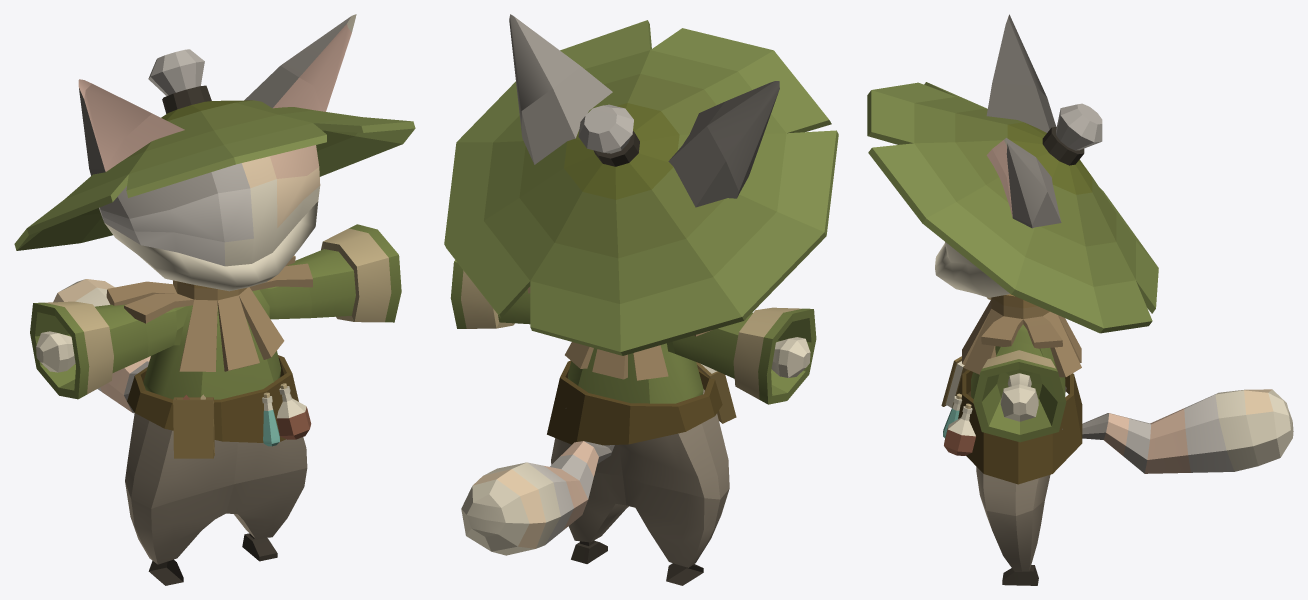
Rendered from GRASSMODELUPDATED.fbx.
3 views of the same model, side by side, from view 1: azimuth 30°, elevation 25°; view 2: azimuth 150°, elevation 25°; view 3: azimuth 270°, elevation 25° (orthographic). The views are drawn at different scales.
Visible parts, largest first — view 1: HEAD, TORSO_ARMS, HAT, PANTS, NECKPIECE, BELT, pCube11, TAIL, pSphere3, pSphere4, pCube5, pCube6; view 2: HAT, TORSO_ARMS, HEAD, PANTS, TAIL, BELT, NECKPIECE, pCube11, pCube5, pCube6; view 3: HAT, TAIL, HEAD, TORSO_ARMS, BELT, NECKPIECE, PANTS, pSphere3, pCube11, pCube5.
Part boxes in pixels (x1,y1,x2,y2): HEAD: (78, 14, 356, 291); TORSO_ARMS: (30, 224, 401, 399); HAT: (14, 49, 415, 250); PANTS: (125, 413, 307, 564); NECKPIECE: (106, 255, 312, 371); BELT: (127, 355, 298, 442); pCube11: (173, 397, 214, 458); TAIL: (53, 279, 150, 413); pSphere3: (276, 383, 311, 439); pSphere4: (262, 392, 279, 446); pCube5: (242, 533, 277, 561); pCube6: (148, 559, 183, 585); HAT: (444, 20, 838, 355); TORSO_ARMS: (450, 260, 816, 404); HEAD: (509, 14, 779, 207); PANTS: (551, 389, 729, 567); TAIL: (461, 441, 614, 555); BELT: (547, 360, 722, 445); NECKPIECE: (527, 286, 711, 380); pCube11: (696, 362, 736, 423); pCube5: (571, 540, 607, 563); pCube6: (666, 563, 703, 585); HAT: (867, 82, 1158, 333); TAIL: (1082, 389, 1293, 473); HEAD: (935, 14, 1061, 297); TORSO_ARMS: (971, 297, 1066, 442); BELT: (957, 370, 1082, 484); NECKPIECE: (962, 294, 1081, 377); PANTS: (976, 386, 1066, 571); pSphere3: (944, 403, 975, 455); pCube11: (941, 356, 971, 407); pCube5: (1002, 565, 1038, 585).
Bounding box in the file's own units: 7.49 × 10.01 × 8.
